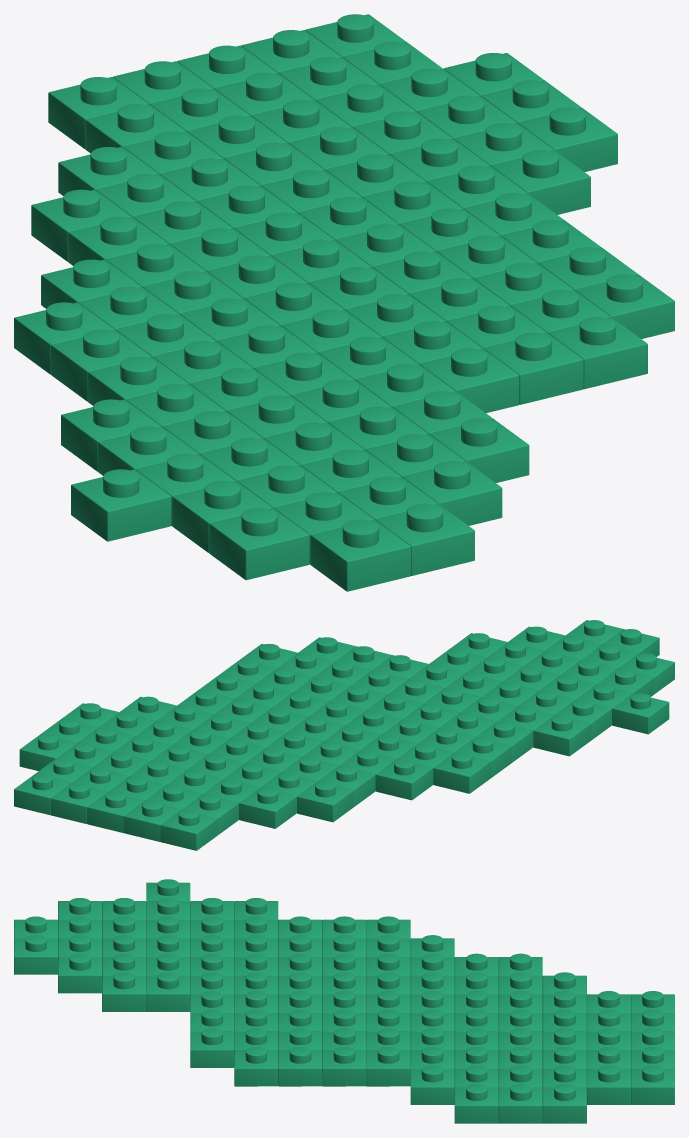
File: Madagasca.fbx
The picture shows the model from 3 angles, top to bottom: view 1: azimuth 30°, elevation 25°; view 2: azimuth 150°, elevation 25°; view 3: azimuth 270°, elevation 25°; orthographic projection. The views are drawn at different scales.
Parts seen in each view (by area): view 1: Cylinder_19; view 2: Cylinder_19; view 3: Cylinder_19.
Part boxes in pixels (bbox=[...]): Cylinder_19: bbox=[14, 14, 674, 591]; Cylinder_19: bbox=[14, 620, 674, 850]; Cylinder_19: bbox=[14, 879, 674, 1123].
Bounding box in the file's own units: 1200 × 65.03 × 1500.
